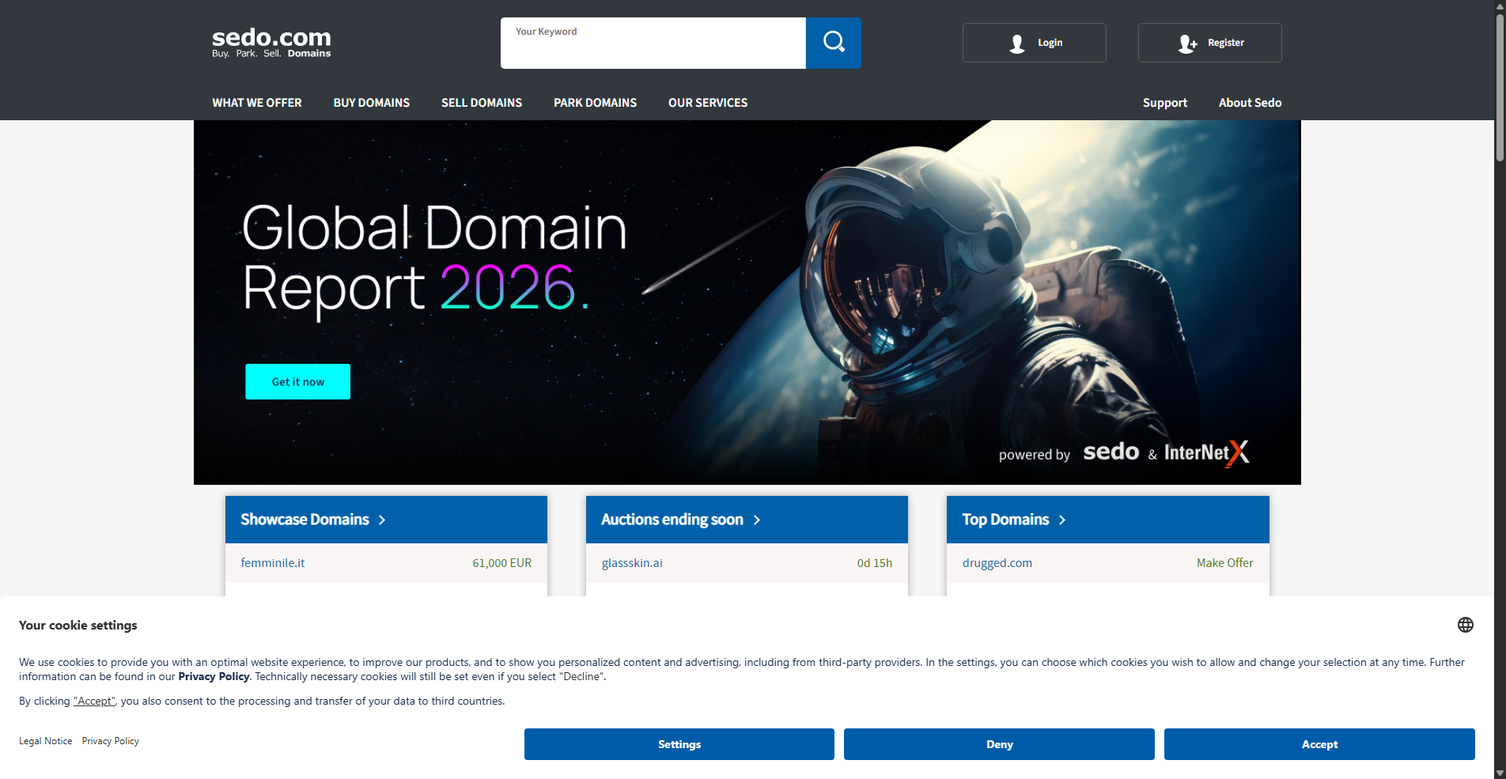button: (962, 23, 1106, 62), (1138, 23, 1282, 62), (806, 17, 861, 68), (1208, 38, 1244, 48), (1038, 38, 1063, 48)
input: (500, 17, 806, 68)
label: (500, 26, 806, 37)
link: (193, 120, 1301, 484), (212, 25, 330, 61), (197, 85, 318, 120), (538, 85, 653, 120), (425, 85, 538, 120), (653, 85, 764, 120), (318, 85, 425, 120), (1203, 85, 1298, 120), (602, 509, 758, 529), (241, 509, 384, 529), (1127, 85, 1203, 120), (962, 509, 1064, 529), (602, 713, 721, 729), (241, 634, 340, 650), (602, 753, 695, 768), (602, 673, 685, 689), (241, 673, 323, 689), (241, 753, 324, 768), (241, 594, 315, 610), (602, 594, 673, 610), (962, 555, 1033, 571), (962, 713, 1033, 729), (962, 753, 1037, 768), (241, 713, 311, 729), (962, 673, 1029, 689), (466, 713, 532, 729), (962, 634, 1027, 650), (241, 555, 305, 571), (962, 594, 1026, 610), (472, 594, 532, 610), (602, 555, 662, 571), (473, 555, 532, 571), (475, 634, 532, 650), (475, 673, 532, 689), (1197, 555, 1253, 571), (1197, 594, 1253, 610), (1197, 634, 1253, 650), (1197, 673, 1253, 689), (1197, 713, 1253, 729), (473, 753, 532, 768), (602, 634, 656, 650), (1197, 753, 1253, 768), (857, 555, 892, 571), (857, 594, 892, 610), (857, 634, 892, 650), (857, 673, 892, 689), (857, 713, 892, 729), (857, 753, 892, 768)
